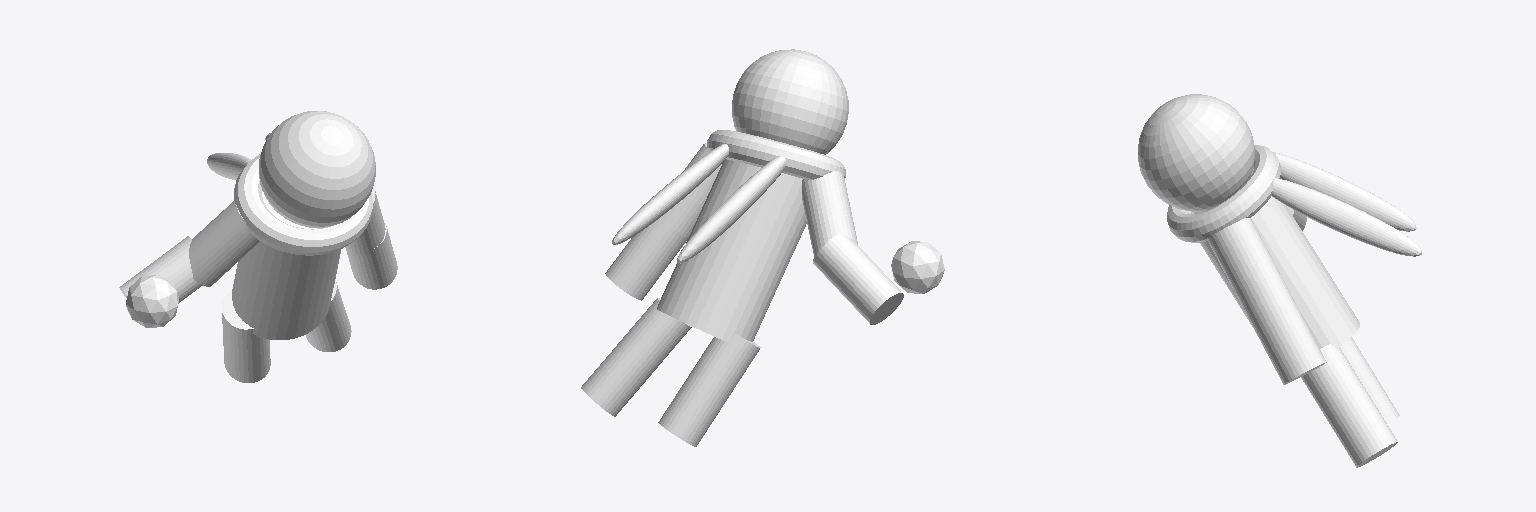
The model's file is hidarihito.obj.
3 renders of one model, left to right at view 1: azimuth 30°, elevation 25°; view 2: azimuth 150°, elevation 25°; view 3: azimuth 270°, elevation 25°, orthographic.
Parts seen in each view (by area): view 1: 球_球.001, 円柱, トーラス, 円柱.009_円柱.011, ICO球, 円柱.002, 円柱.011_円柱.013, 円柱.008_円柱.009, 円柱.004_円柱.008, 円柱.010_円柱.012, 円柱.006, 立方体.001_立方体.002 (+1 smaller); view 2: 円柱, 球_球.001, 円柱.002, 円柱.011_円柱.013, トーラス, 円柱.009_円柱.011, 立方体.001_立方体.002, 円柱.004_円柱.008, 円柱.006, 立方体_立方体.001, 円柱.003, 円柱.008_円柱.009 (+2 smaller); view 3: 球_球.001, 円柱, 円柱.011_円柱.013, 立方体_立方体.001, トーラス, 円柱.010_円柱.012, 立方体.001_立方体.002, 円柱.006, 円柱.003, 円柱.004_円柱.008.
Part boxes in pixels (x1,y1,x2,y2): 球_球.001: (259,111,375,227); 円柱: (232,191,340,339); トーラス: (234,154,372,255); 円柱.009_円柱.011: (189,201,259,286); ICO球: (126,275,178,327); 円柱.002: (119,236,202,302); 円柱.011_円柱.013: (345,219,397,289); 円柱.008_円柱.009: (222,290,268,356); 円柱.004_円柱.008: (223,338,270,382); 円柱.010_円柱.012: (346,186,385,254); 円柱.006: (306,307,351,351); 立方体.001_立方体.002: (207,153,250,179); 円柱: (657,159,806,342); 球_球.001: (732,49,848,154); 円柱.002: (813,233,903,324); 円柱.011_円柱.013: (605,215,687,300); トーラス: (707,130,845,179); 円柱.009_円柱.011: (802,171,857,256); 立方体.001_立方体.002: (677,156,785,263); 円柱.004_円柱.008: (658,373,727,446); 円柱.006: (581,343,652,416); 立方体_立方体.001: (612,143,728,244); 円柱.003: (619,298,691,371); 円柱.008_円柱.009: (691,333,760,397); 球_球.001: (1138,94,1254,211); 円柱: (1194,173,1359,348); 円柱.011_円柱.013: (1244,286,1326,384); 立方体_立方体.001: (1272,178,1421,256); トーラス: (1167,145,1280,242); 円柱.010_円柱.012: (1207,218,1289,307); 立方体.001_立方体.002: (1274,152,1416,231); 円柱.006: (1326,391,1397,467); 円柱.003: (1301,344,1365,416); 円柱.004_円柱.008: (1357,365,1399,423).
Bounding box in the file's own units: 5.85 × 6.21 × 4.84.